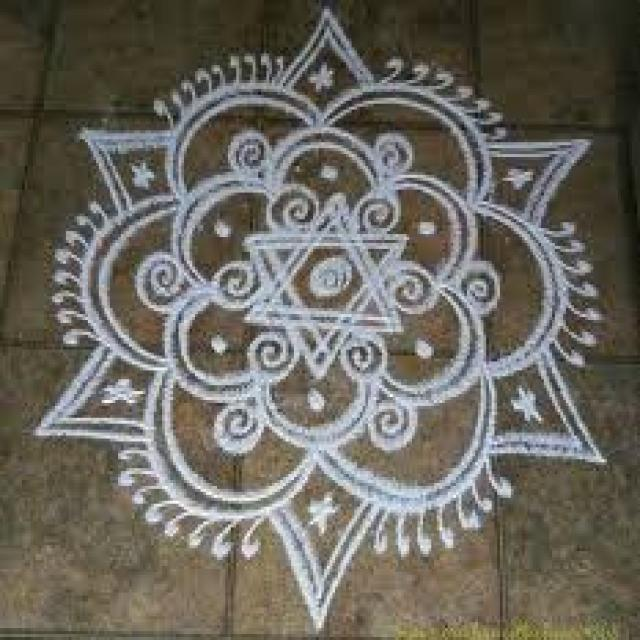rangoli: (29, 0, 609, 629)
